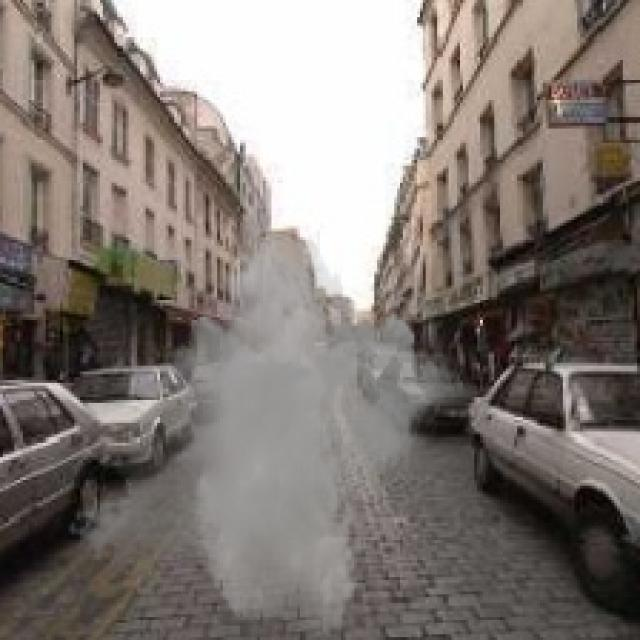smoke: (66, 232, 466, 637)
